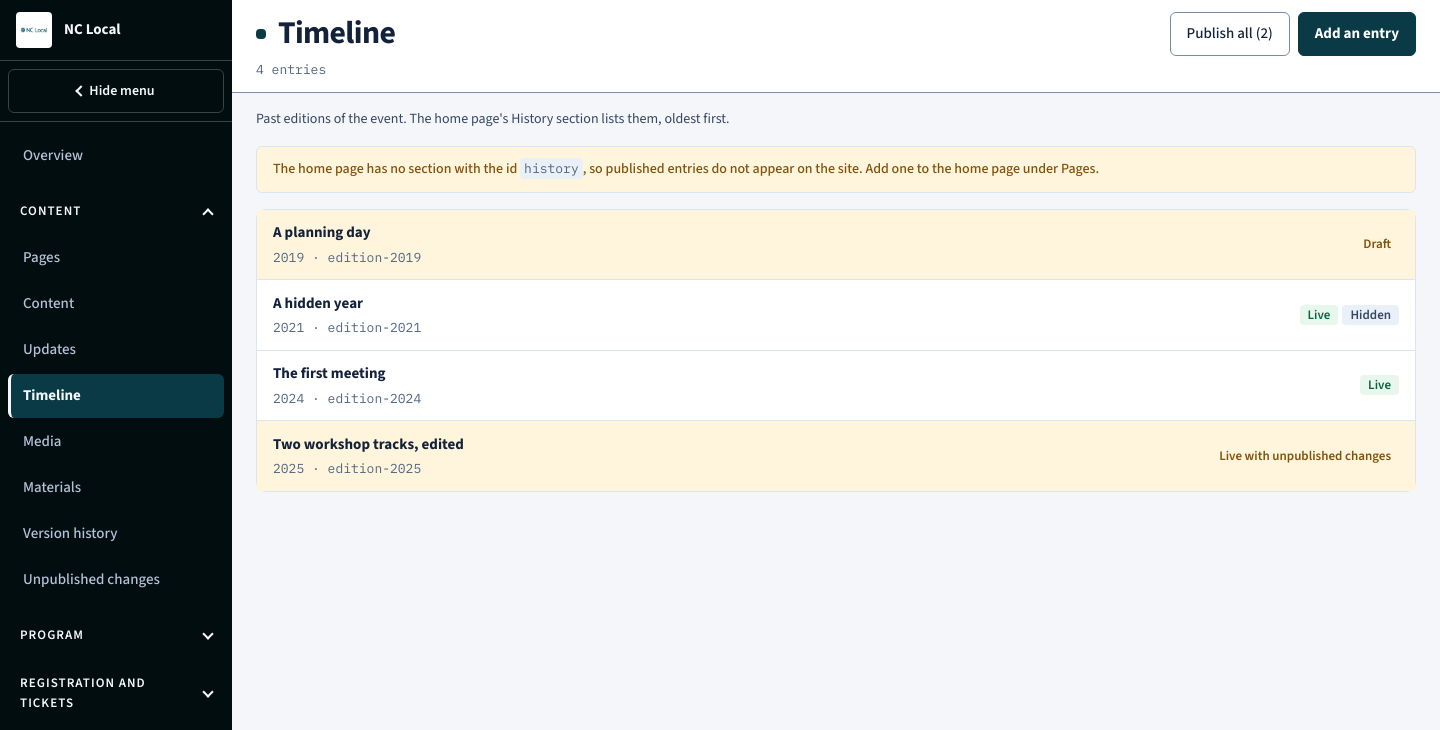
Scenario: the timeline list › reports a resumed publish against the ids the failed run asked for
Check: the heading "Timeline" is shown, box [278,15,395,53]
Click the button "Publish all (2)": (1230, 34) [1170,12,1290,56]
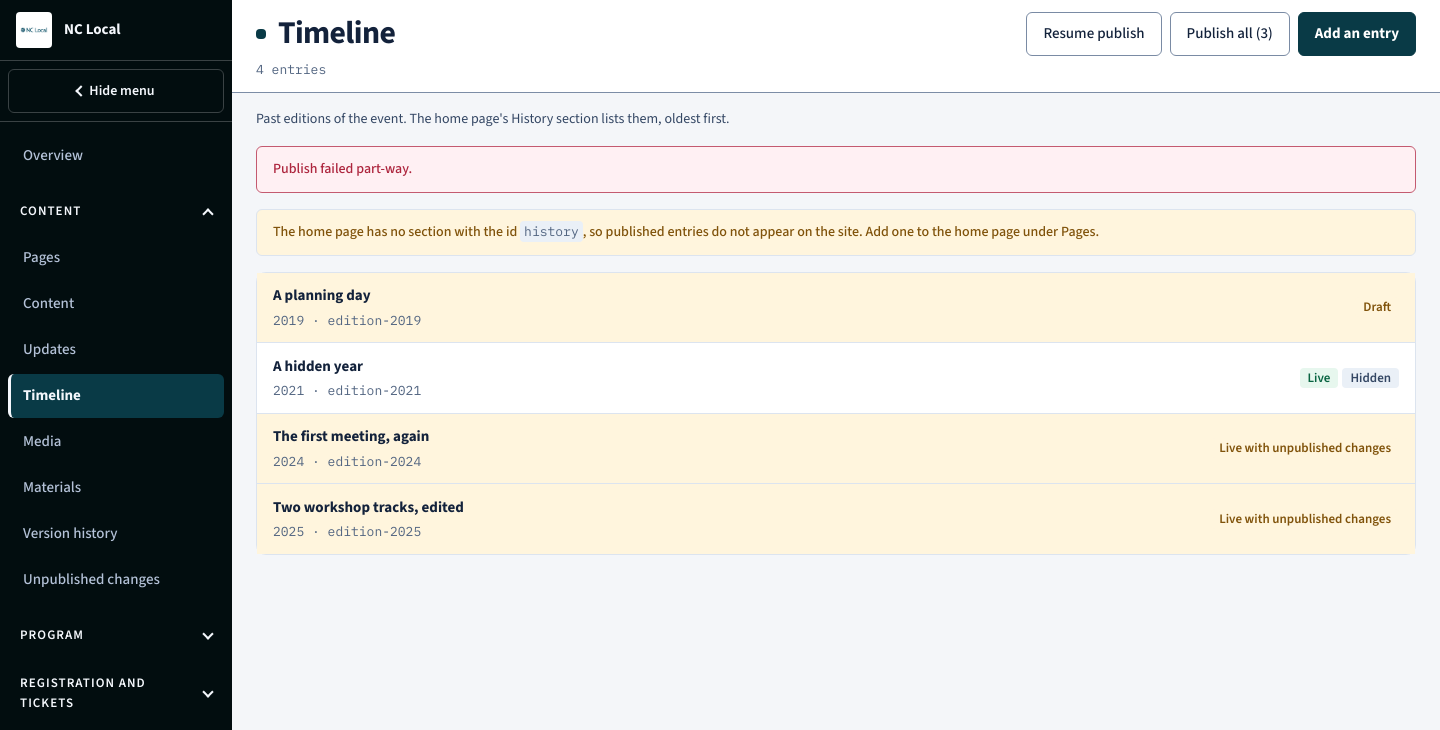
Click the button "Resume publish": (1094, 34) [1026,12,1162,56]
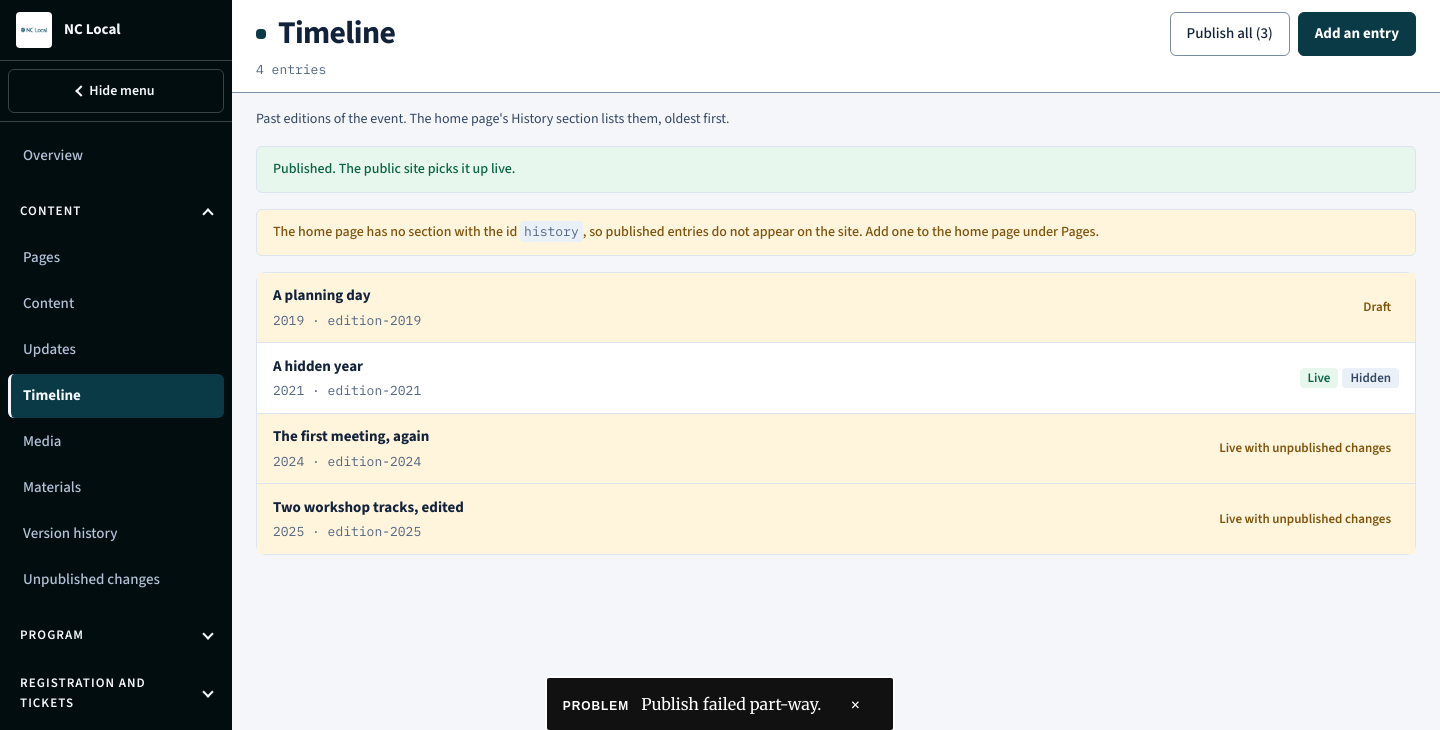
Check: the text "Published. The public site picks it up live." is shown, box [256,146,1416,192]
